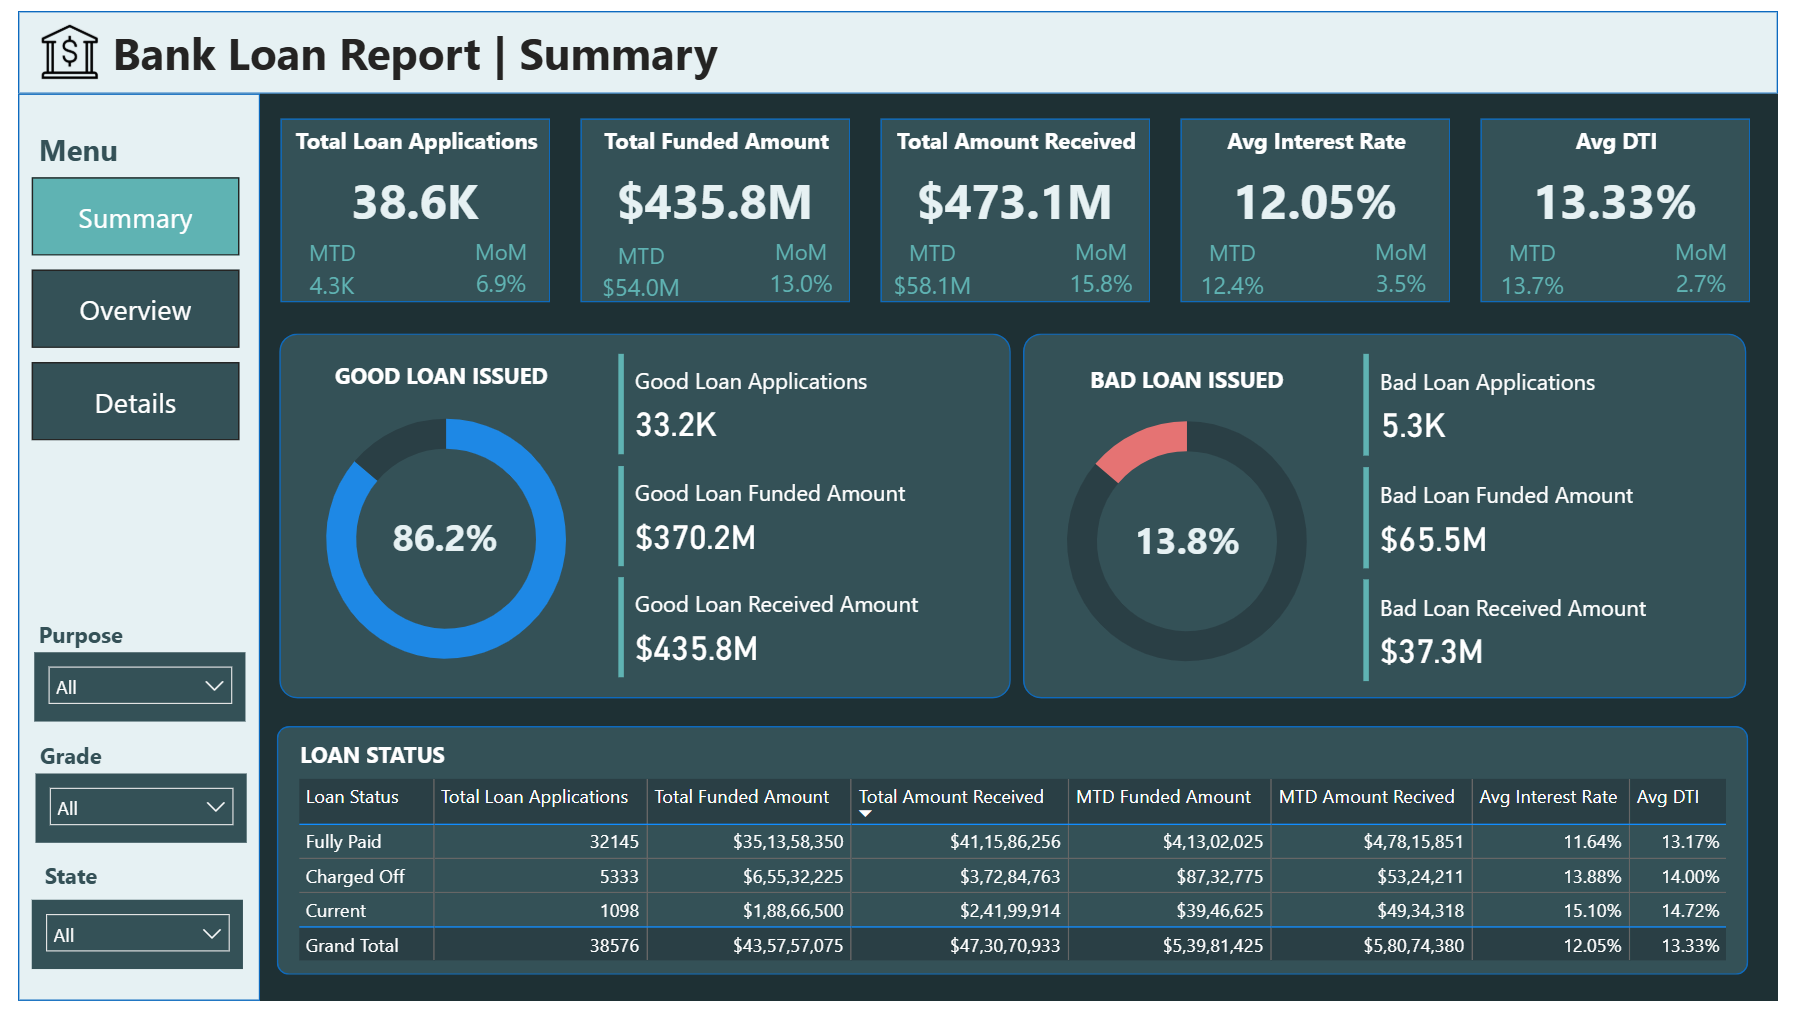

The dashboard page shown, as its layout file describes it:
{"tool":"powerbi","page":{"name":"Summary","canvas":[1280,720],"ordinal":0},"visuals":[{"type":"shape","box":[0,60.3,176.1,659.9],"z":0},{"type":"shape","box":[0,0,1280,60.3],"z":1000,"group":"g9"},{"type":"group","id":"g1","title":"Group 1","box":[190.8,78.1,197,134.2],"z":1000},{"type":"textbox","box":[63.9,3.6,469.3,53.1],"z":2000,"group":"g9"},{"type":"image","box":[9.7,4.8,55.5,50.7],"z":3000,"group":"g9"},{"type":"shape","box":[191,78.1,196.2,133.8],"z":3000,"group":"g1"},{"type":"shape","box":[408.9,78.2,196.2,133.8],"z":3000,"group":"g10"},{"type":"group","id":"g2","title":"Group 1","box":[627.2,78.2,197,134.2],"z":3000},{"type":"shape","box":[627.4,78.2,196.2,133.8],"z":3000,"group":"g2"},{"type":"shape","box":[845.8,78.2,196.2,133.8],"z":3000,"group":"g3"},{"type":"shape","box":[1064.3,78.2,196.2,133.8],"z":3000,"group":"g4"},{"type":"group","id":"g3","title":"Group 1","box":[845.6,78.2,197,134.2],"z":4000},{"type":"card","title":"Total Loan Applications","fields":{"Values":["bank_loan_data.Total Loan Applications"]},"box":[190.8,114.5,195.5,47.3],"z":5000,"group":"g1"},{"type":"card","title":"Total Loan Applications","fields":{"Values":["bank_loan_data.Total Funded Amount"]},"box":[408.7,114.6,195.5,47.3],"z":5000,"group":"g10"},{"type":"card","title":"Total Loan Applications","fields":{"Values":["bank_loan_data.Total Amount Received"]},"box":[627.2,114.6,195.5,47.3],"z":5000,"group":"g2"},{"type":"card","title":"Total Loan Applications","fields":{"Values":["bank_loan_data.Avg INterest Rate"]},"box":[845.6,114.6,195.5,47.3],"z":5000,"group":"g3"},{"type":"card","title":"Total Loan Applications","fields":{"Values":["bank_loan_data.Avg DTI"]},"box":[1064.1,114.6,195.5,47.3],"z":5000,"group":"g4"},{"type":"shape","box":[190.4,234.9,532,265.4],"z":5000},{"type":"group","id":"g4","title":"Group 1","box":[1064.1,78.2,197,134.2],"z":6000},{"type":"textbox","box":[191.7,78.4,196.2,34.6],"z":6000,"group":"g1"},{"type":"textbox","box":[409.6,78.5,196.2,34.6],"z":6000,"group":"g10"},{"type":"textbox","box":[628.1,78.5,196.2,34.6],"z":6000,"group":"g2"},{"type":"textbox","box":[846.5,78.5,196.2,34.6],"z":6000,"group":"g3"},{"type":"textbox","box":[1065,78.5,196.2,34.6],"z":6000,"group":"g4"},{"type":"textbox","box":[10,80.8,150.8,40],"z":7000},{"type":"card","title":"MTD","fields":{"Values":["bank_loan_data.MTD Loan Applications"]},"box":[192,164.1,73.6,48.2],"z":7000,"group":"g1"},{"type":"card","title":"MTD","fields":{"Values":["bank_loan_data.MTD Total Amount Recived"]},"box":[628.4,164.2,73.6,48.2],"z":7000,"group":"g2"},{"type":"card","title":"MTD","fields":{"Values":["bank_loan_data.MTD Avg Interest Rate"]},"box":[846.8,164.2,73.6,48.2],"z":7000,"group":"g3"},{"type":"card","title":"MTD","fields":{"Values":["bank_loan_data.MTD Avg DTI"]},"box":[1065.3,164.2,73.6,48.2],"z":7000,"group":"g4"},{"type":"card","title":"MTD","fields":{"Values":["bank_loan_data.MTD Funded Amount"]},"box":[416.2,166.2,73.8,47.5],"z":7000,"group":"g10"},{"type":"textbox","box":[10,437.5,153.8,32.5],"z":7000,"group":"g8"},{"type":"textbox","box":[11.3,525,153.8,32.5],"z":7000,"group":"g6"},{"type":"textbox","box":[10,612.5,153.8,32.5],"z":7000,"group":"g5"},{"type":"donutChart","fields":{"Category":["bank_loan_data.Good Vs Bad Loan"],"Y":["bank_loan_data.Total Loan Applications"]},"box":[190.6,270.2,241.3,228],"z":8000},{"type":"card","title":"MoM","fields":{"Values":["bank_loan_data.MoM Loan Applications"]},"box":[315.6,163.2,71.8,48.2],"z":8001,"group":"g1"},{"type":"card","title":"MoM","fields":{"Values":["bank_loan_data.MoM Total Funded Amount"]},"box":[533.5,163.3,71.8,48.2],"z":8001,"group":"g10"},{"type":"card","title":"MoM","fields":{"Values":["bank_loan_data.MoM Total Amount Received"]},"box":[752,163.3,71.8,48.2],"z":8001,"group":"g2"},{"type":"card","title":"MoM","fields":{"Values":["bank_loan_data.MoM Avg Interest Rate"]},"box":[970.4,163.3,71.8,48.2],"z":8001,"group":"g3"},{"type":"card","title":"MoM","fields":{"Values":["bank_loan_data.MoM Avg DTI"]},"box":[1188.9,163.3,71.8,48.2],"z":8001,"group":"g4"},{"type":"shape","box":[188.2,520,1070.1,181],"z":9000},{"type":"card","title":"Total Loan Applications","fields":{"Values":["bank_loan_data.Good Loan %"]},"box":[261.8,359.5,97.7,49.5],"z":10000},{"type":"textbox","box":[190.6,524.8,133.9,36.2],"z":11000},{"type":"tableEx","fields":{"Values":["bank_loan_data.loan_status","bank_loan_data.Total Loan Applications","bank_loan_data.Total Funded Amount","bank_loan_data.Total Amount Received","bank_loan_data.MTD Total Funded Amount","bank_loan_data.MTD Total Amount Recived","bank_loan_data.Avg Interest Rate","bank_loan_data.Avg DTI"]},"box":[197.9,553.8,1049.6,142.4],"z":12000},{"type":"shape","box":[731.2,234.7,526,265.4],"z":13000},{"type":"textbox","box":[204.6,248.9,206.7,34.4],"z":14000},{"type":"cardVisual","fields":{"Data":["bank_loan_data.Good Loan Applications","bank_loan_data.Good Loan Funded Amount","bank_loan_data.Good Loan Received Amount"]},"box":[431.9,244.9,282.3,247.3],"z":15000},{"type":"slicer","fields":{"Values":["bank_loan_data.purpose"]},"box":[11.6,467,153.8,50],"z":16000,"group":"g8"},{"type":"slicer","fields":{"Values":["bank_loan_data.grade"]},"box":[12.9,554.5,153.8,50],"z":16000,"group":"g6"},{"type":"group","id":"g5","title":"Group 4","box":[10,612.5,153.8,83.8],"z":16000},{"type":"slicer","fields":{"Values":["bank_loan_data.address_state"]},"box":[10,646.3,153.8,50],"z":16000,"group":"g5"},{"type":"group","id":"g6","title":"Group 5","box":[11.3,525,155,80],"z":16001,"group":"g7"},{"type":"cardVisual","fields":{"Data":["bank_loan_data.Bad Loan Applications","bank_loan_data.Bad Loan Funded Amount","bank_loan_data.Bad Loan Received Amount"]},"box":[973.6,244.9,273.9,248.5],"z":17000},{"type":"group","id":"g7","title":"Group 4","box":[11.3,525,155,80],"z":18000},{"type":"donutChart","fields":{"Category":["bank_loan_data.Good Vs Bad Loan"],"Y":["bank_loan_data.Total Loan Applications"]},"box":[731.1,271.4,238.9,228],"z":19000},{"type":"group","id":"g8","title":"Group 5","box":[10,437.5,155,80],"z":20000},{"type":"pageNavigator","title":"Menu","box":[10,121.1,151.1,191.1],"z":21000},{"type":"group","id":"g9","title":"Group 6","box":[0,0,1280,60.3],"z":22000},{"type":"textbox","box":[746.8,252.1,207.5,35],"z":23000},{"type":"card","title":"Total Loan Applications","fields":{"Values":["bank_loan_data.Bad Loan %"]},"box":[801.1,360.7,98.9,49.5],"z":24000},{"type":"group","id":"g10","title":"Group 2","box":[408.7,78.2,197,135.5],"z":24001}]}

Visuals, with their boxes in screenshot pixels (x1, y1, x2, y2), scaled from the page's 1280x720 canvas onto the 1797x1015 screenshot:
shape: bbox=(0, 85, 247, 1014)
shape: bbox=(0, 0, 1796, 85)
"Group 1" group: bbox=(268, 110, 544, 299)
textbox: bbox=(90, 5, 749, 80)
image: bbox=(14, 7, 92, 78)
shape: bbox=(268, 110, 544, 299)
shape: bbox=(574, 110, 850, 299)
"Group 1" group: bbox=(881, 110, 1157, 299)
shape: bbox=(881, 110, 1156, 299)
shape: bbox=(1187, 110, 1463, 299)
shape: bbox=(1494, 110, 1770, 299)
"Group 1" group: bbox=(1187, 110, 1464, 299)
"Total Loan Applications" card: bbox=(268, 161, 542, 228)
"Total Loan Applications" card: bbox=(574, 162, 848, 228)
"Total Loan Applications" card: bbox=(881, 162, 1155, 228)
"Total Loan Applications" card: bbox=(1187, 162, 1462, 228)
"Total Loan Applications" card: bbox=(1494, 162, 1768, 228)
shape: bbox=(267, 331, 1014, 705)
"Group 1" group: bbox=(1494, 110, 1770, 299)
textbox: bbox=(269, 111, 545, 159)
textbox: bbox=(575, 111, 850, 159)
textbox: bbox=(882, 111, 1157, 159)
textbox: bbox=(1188, 111, 1464, 159)
textbox: bbox=(1495, 111, 1771, 159)
textbox: bbox=(14, 114, 226, 170)
"MTD" card: bbox=(270, 231, 373, 299)
"MTD" card: bbox=(882, 231, 986, 299)
"MTD" card: bbox=(1189, 231, 1292, 299)
"MTD" card: bbox=(1496, 231, 1599, 299)
"MTD" card: bbox=(584, 234, 688, 301)
textbox: bbox=(14, 617, 230, 663)
textbox: bbox=(16, 740, 232, 786)
textbox: bbox=(14, 863, 230, 909)
donutChart - bank_loan_data.Good Vs Bad Loan x bank_loan_data.Total Loan Applications: bbox=(268, 381, 606, 702)
"MoM" card: bbox=(443, 230, 544, 298)
"MoM" card: bbox=(749, 230, 850, 298)
"MoM" card: bbox=(1056, 230, 1157, 298)
"MoM" card: bbox=(1362, 230, 1463, 298)
"MoM" card: bbox=(1669, 230, 1770, 298)
shape: bbox=(264, 733, 1767, 988)
"Total Loan Applications" card: bbox=(368, 507, 505, 577)
textbox: bbox=(268, 740, 456, 791)
tableEx - bank_loan_data.loan_status x bank_loan_data.Total Loan Applications: bbox=(278, 781, 1751, 981)
shape: bbox=(1027, 331, 1765, 705)
textbox: bbox=(287, 351, 577, 399)
cardVisual - bank_loan_data.Good Loan Applications x bank_loan_data.Good Loan Funded Amount: bbox=(606, 345, 1003, 694)
slicer - bank_loan_data.purpose: bbox=(16, 658, 232, 729)
slicer - bank_loan_data.grade: bbox=(18, 782, 234, 852)
"Group 4" group: bbox=(14, 863, 230, 982)
slicer - bank_loan_data.address_state: bbox=(14, 911, 230, 982)
"Group 5" group: bbox=(16, 740, 233, 853)
cardVisual - bank_loan_data.Bad Loan Applications x bank_loan_data.Bad Loan Funded Amount: bbox=(1367, 345, 1751, 696)
"Group 4" group: bbox=(16, 740, 233, 853)
donutChart - bank_loan_data.Good Vs Bad Loan x bank_loan_data.Total Loan Applications: bbox=(1026, 383, 1362, 704)
"Group 5" group: bbox=(14, 617, 232, 730)
"Menu" pageNavigator: bbox=(14, 171, 226, 440)
"Group 6" group: bbox=(0, 0, 1796, 85)
textbox: bbox=(1048, 355, 1340, 405)
"Total Loan Applications" card: bbox=(1125, 508, 1264, 578)
"Group 2" group: bbox=(574, 110, 850, 301)
